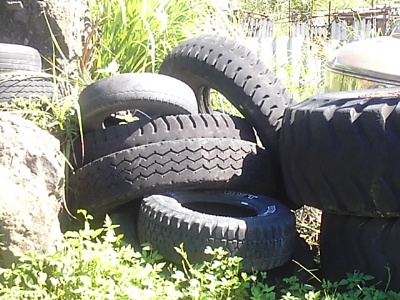tire: (69, 137, 279, 214), (280, 87, 400, 216), (159, 33, 295, 135), (136, 188, 295, 270), (78, 72, 197, 132), (1, 70, 70, 105), (1, 43, 42, 72)
